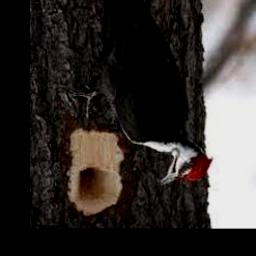Woodpecker: (74, 0, 212, 186)
